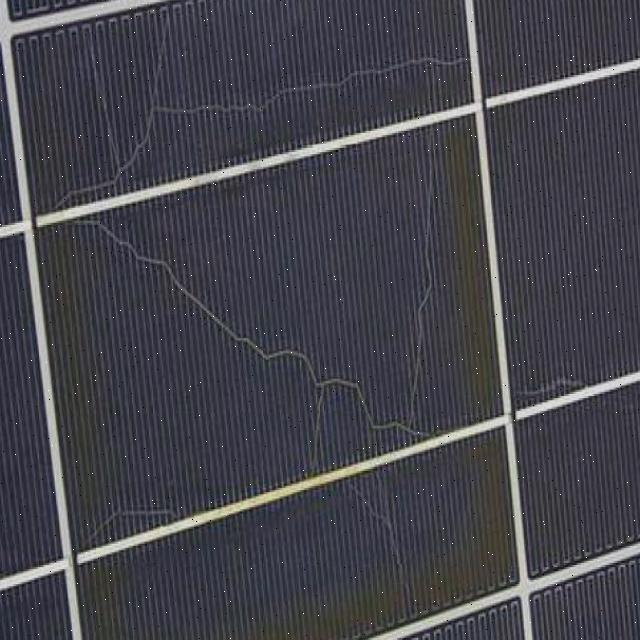Structural Damage: (69, 154, 427, 508), (48, 24, 208, 238), (152, 48, 476, 134), (341, 462, 438, 577), (410, 147, 445, 429), (513, 374, 589, 400)
